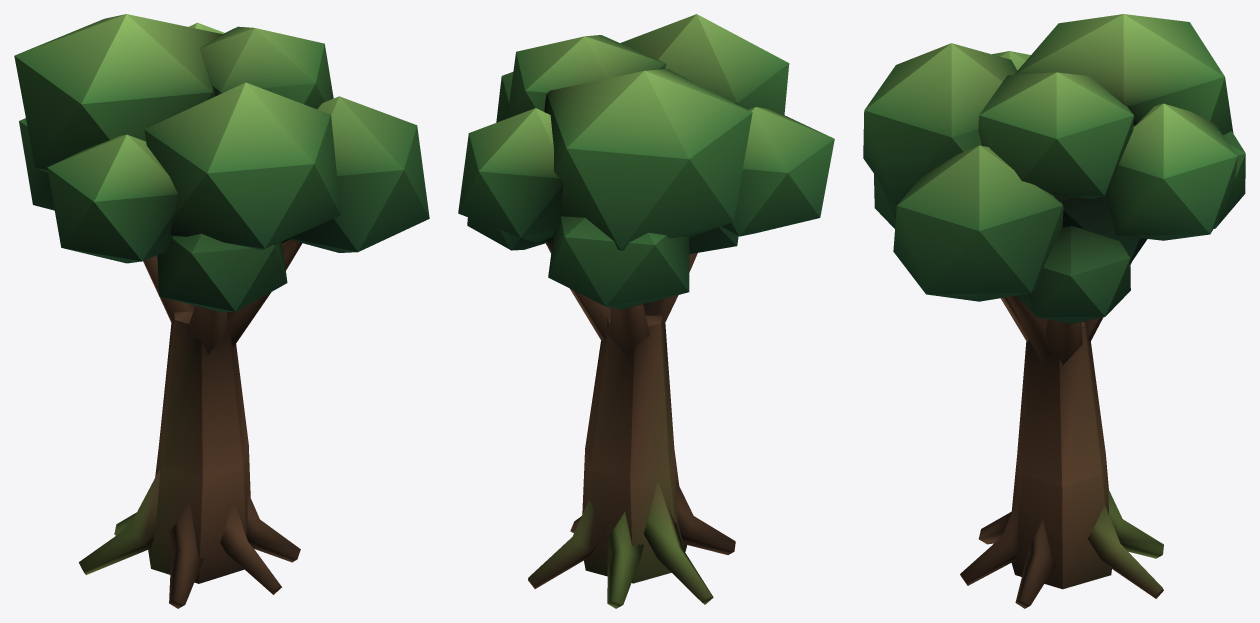
The model's file is tree-big-far.glb.
3 views of the same model, side by side, from view 1: azimuth 30°, elevation 25°; view 2: azimuth 150°, elevation 25°; view 3: azimuth 270°, elevation 25° (orthographic). The views are drawn at different scales.
Visible parts, largest first — view 1: 1_leaves.013, 0_trunk.013; view 2: 1_leaves.013, 0_trunk.013; view 3: 1_leaves.013, 0_trunk.013.
Boxes of the visible parts, box(x1,y1,x2,y2) form: 1_leaves.013: box(14, 14, 429, 312); 0_trunk.013: box(79, 239, 302, 608); 1_leaves.013: box(458, 14, 834, 309); 0_trunk.013: box(528, 242, 735, 608); 1_leaves.013: box(863, 14, 1245, 323); 0_trunk.013: box(960, 262, 1163, 608).
Size of the model in its own units: 5.67 by 8.61 by 5.54.
